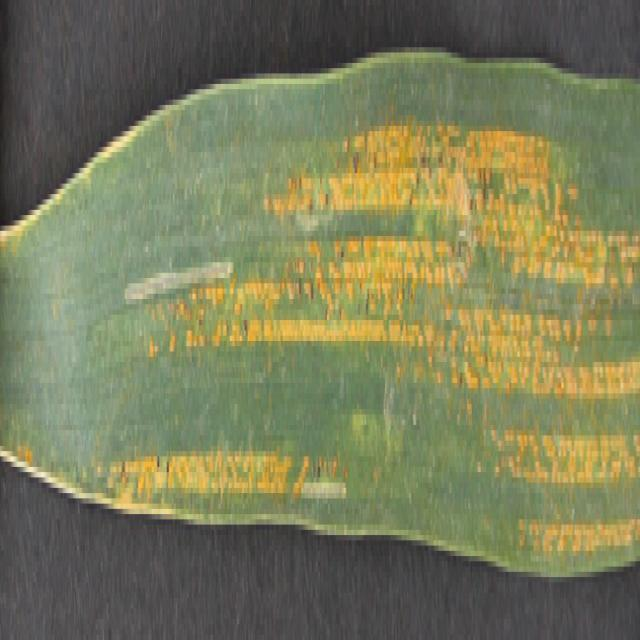leaf rust: (108, 105, 638, 551)
